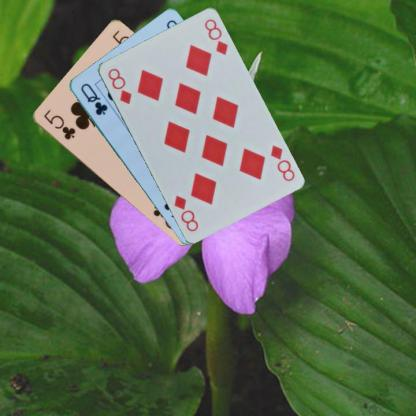5c: (40, 106, 76, 142)
8d: (104, 65, 133, 106), (267, 142, 296, 183)
Qc: (78, 80, 110, 117)
